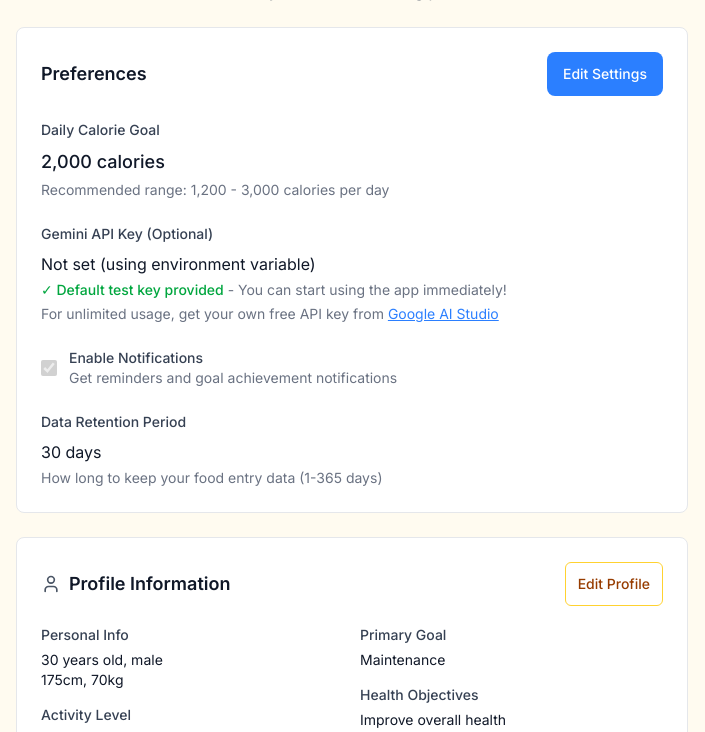
Test: GoalSettings Profile Management › enters edit mode when Edit Profile button is clicked
What coordinates should you click on to do the following:
click the button "Edit Profile"
I would click on:
 (614, 584)
Its box is [565,562,663,606].
(page scrolled)
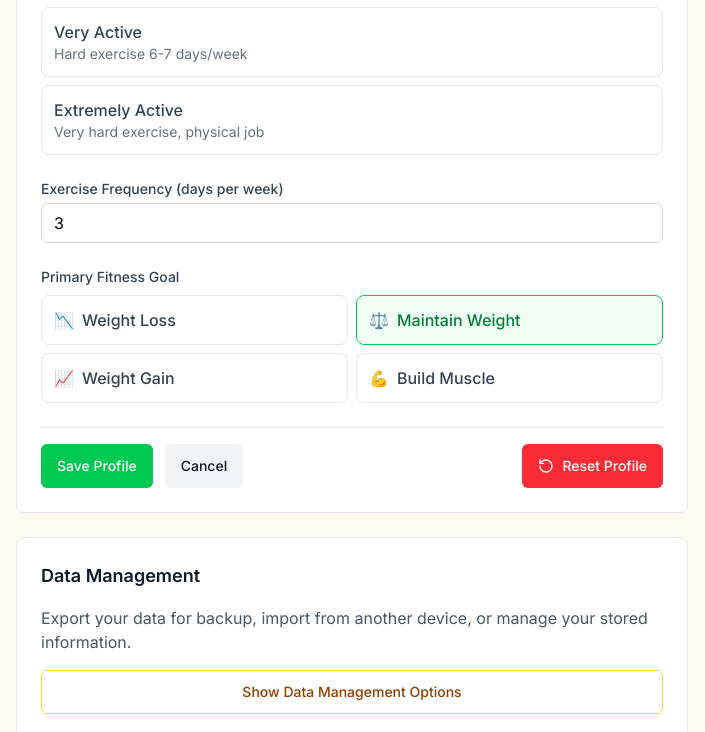
Check: the button "Save Profile" is shown, box [41,444,153,488]
Check: the button "Cancel" is shown, box [165,444,243,488]
Check: the button "Reset Profile" is shown, box [522,444,663,488]
